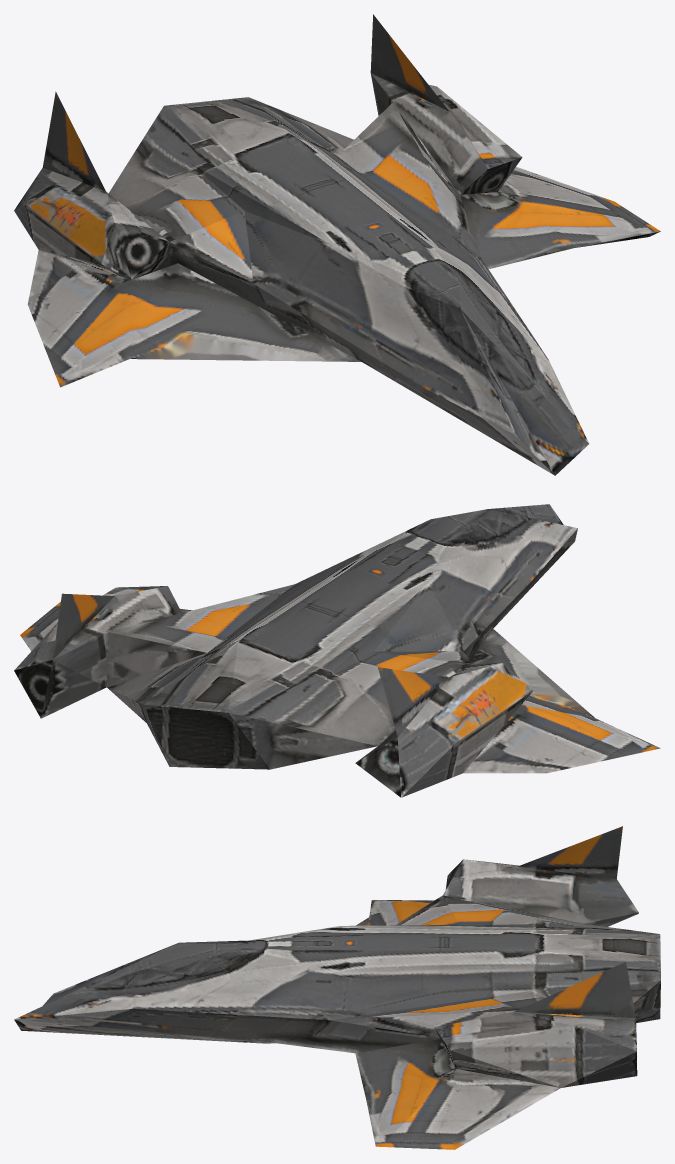
Rendered from hard-150.glb.
3 views of the same model, one above another, from view 1: azimuth 30°, elevation 25°; view 2: azimuth 150°, elevation 25°; view 3: azimuth 270°, elevation 25° (orthographic). The views are drawn at different scales.
Visible parts, largest first — view 1: Low; view 2: Low; view 3: Low.
Boxes of the visible parts, x1,y1,x2,y2 form: Low: [14, 14, 660, 475]; Low: [14, 504, 660, 797]; Low: [14, 826, 660, 1149].
Bounding box in the file's own units: 0.8934 × 0.2394 × 0.9653.
1 material, 1 textured.
